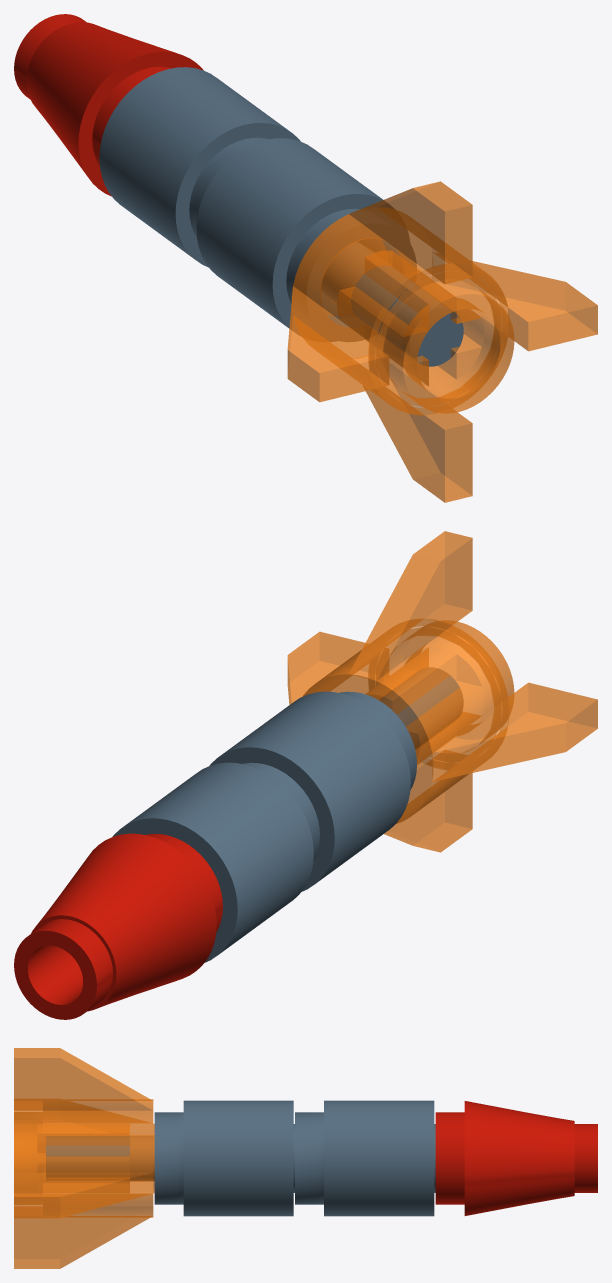
Rendered from rocket_raw_small.dae.
3 renders of one model, top to bottom at view 1: azimuth 30°, elevation 25°; view 2: azimuth 150°, elevation 25°; view 3: azimuth 270°, elevation 25°, orthographic. The views are drawn at different scales.
Visible parts, largest first — view 1: Inner-Node-rocket__holder__base_dot_io-3, Inner-Node-rocket__holder__base_dot_io-2, Inner-Node-rocket__holder__base_dot_io-1, Inner-Node-rocket__holder__base_dot_io-4, Inner-Node-rocket__holder__base_dot_io-0; view 2: Inner-Node-rocket__holder__base_dot_io-3, Inner-Node-rocket__holder__base_dot_io-4, Inner-Node-rocket__holder__base_dot_io-2, Inner-Node-rocket__holder__base_dot_io-1, Inner-Node-rocket__holder__base_dot_io-0; view 3: Inner-Node-rocket__holder__base_dot_io-3, Inner-Node-rocket__holder__base_dot_io-1, Inner-Node-rocket__holder__base_dot_io-2, Inner-Node-rocket__holder__base_dot_io-4, Inner-Node-rocket__holder__base_dot_io-0.
Boxes of the visible parts, x1,y1,x2,y2 form: Inner-Node-rocket__holder__base_dot_io-3: [287, 181, 597, 502]; Inner-Node-rocket__holder__base_dot_io-2: [196, 138, 416, 341]; Inner-Node-rocket__holder__base_dot_io-1: [99, 67, 300, 267]; Inner-Node-rocket__holder__base_dot_io-4: [14, 14, 203, 196]; Inner-Node-rocket__holder__base_dot_io-0: [321, 241, 463, 366]; Inner-Node-rocket__holder__base_dot_io-3: [287, 531, 597, 852]; Inner-Node-rocket__holder__base_dot_io-4: [14, 833, 222, 1019]; Inner-Node-rocket__holder__base_dot_io-2: [209, 691, 416, 891]; Inner-Node-rocket__holder__base_dot_io-1: [112, 762, 319, 962]; Inner-Node-rocket__holder__base_dot_io-0: [379, 667, 463, 748]; Inner-Node-rocket__holder__base_dot_io-3: [14, 1048, 154, 1268]; Inner-Node-rocket__holder__base_dot_io-1: [295, 1100, 435, 1216]; Inner-Node-rocket__holder__base_dot_io-2: [154, 1100, 294, 1216]; Inner-Node-rocket__holder__base_dot_io-4: [435, 1101, 597, 1215]; Inner-Node-rocket__holder__base_dot_io-0: [46, 1136, 154, 1180].
Bounding box in the file's own units: 39.75 × 39.75 × 99.75.
